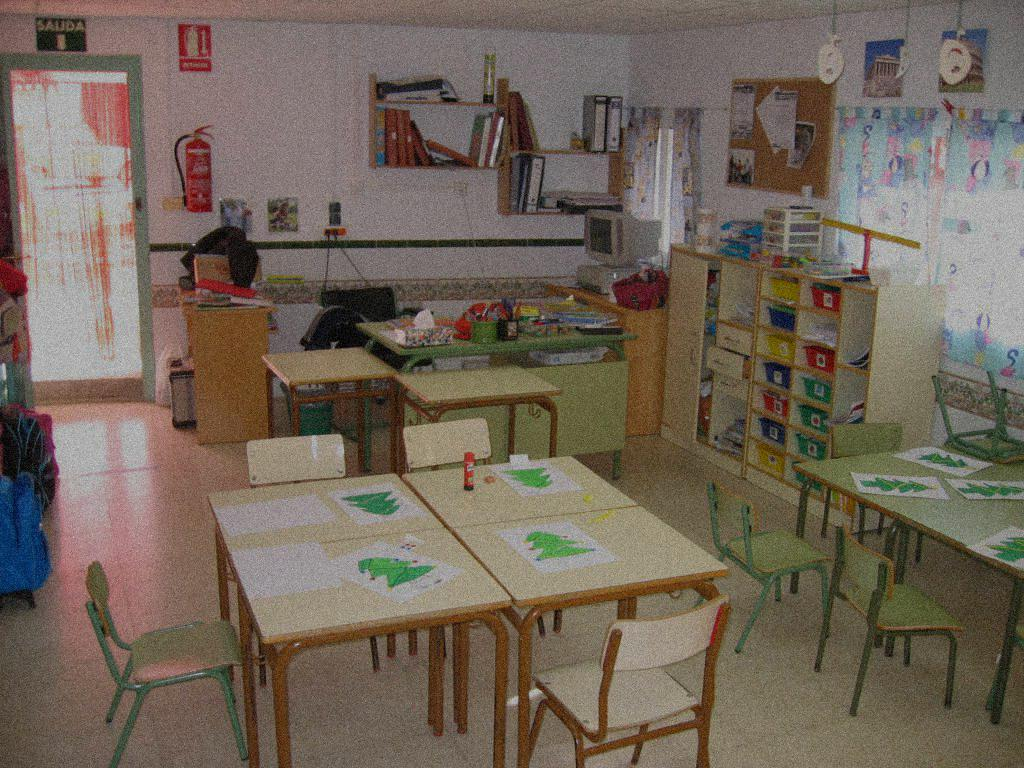Otro Obstaculo: (6, 394, 64, 500), (3, 478, 46, 616)
Puerta: (8, 64, 155, 399)
